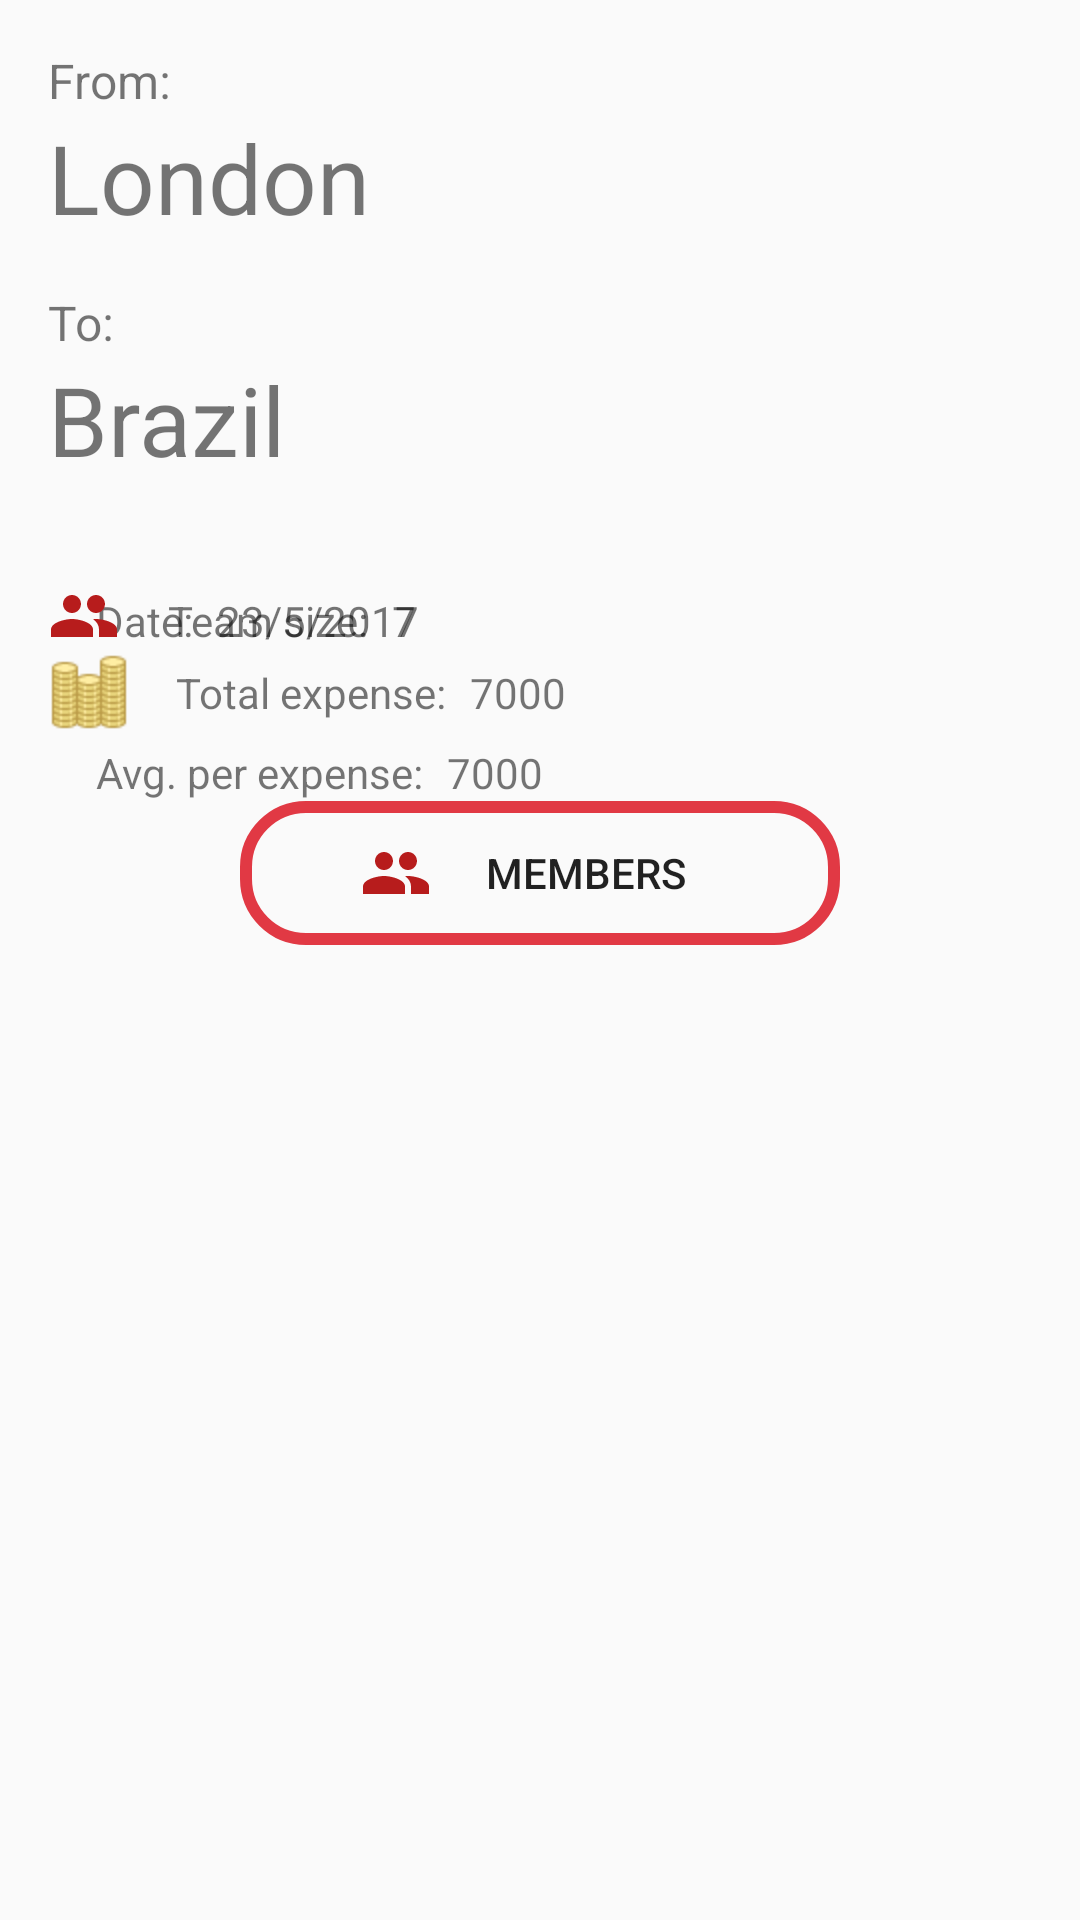

Named icons in this screenshot (1080*1920) and their bounding boxes, (x1, y1, x2, y2):
team expense: (51, 655, 127, 729)
